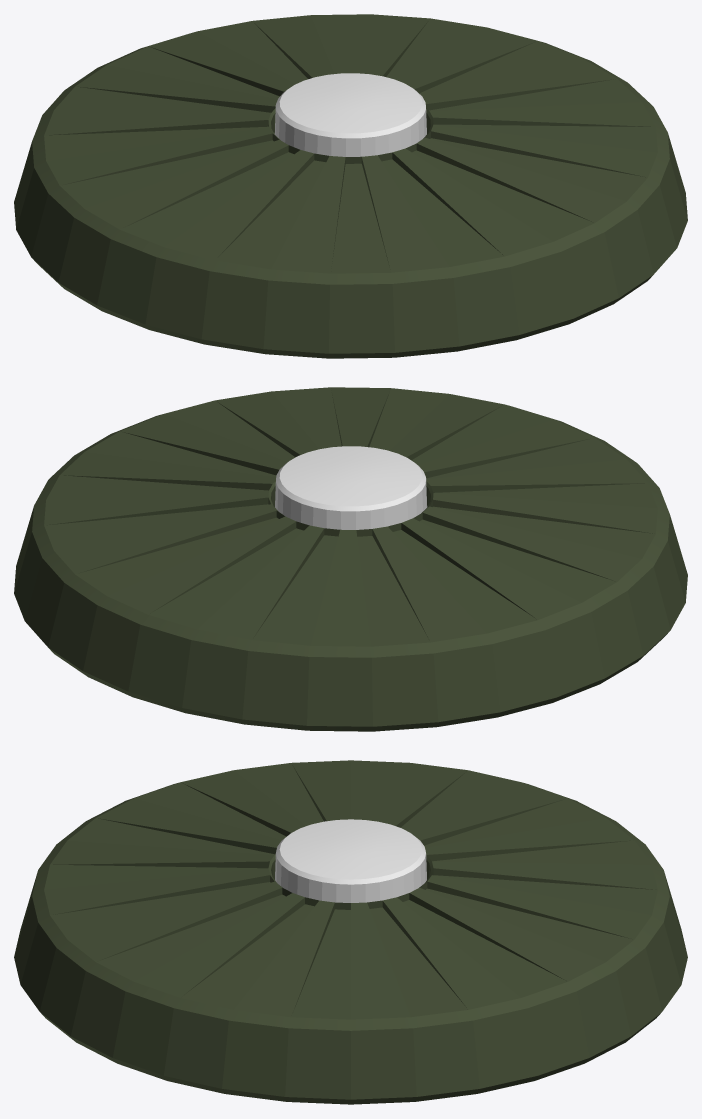
The model's file is Mine.fbx.
The picture shows the model from 3 angles, top to bottom: view 1: azimuth 30°, elevation 25°; view 2: azimuth 150°, elevation 25°; view 3: azimuth 270°, elevation 25°; orthographic projection.
Parts seen in each view (by area): view 1: Cylinder; view 2: Cylinder; view 3: Cylinder.
Part boxes in pixels (<box>): Cylinder: <box>14,14,687,358</box>; Cylinder: <box>14,387,687,731</box>; Cylinder: <box>14,760,687,1104</box>.
Bounding box in the file's own units: 199 × 38.85 × 199.
